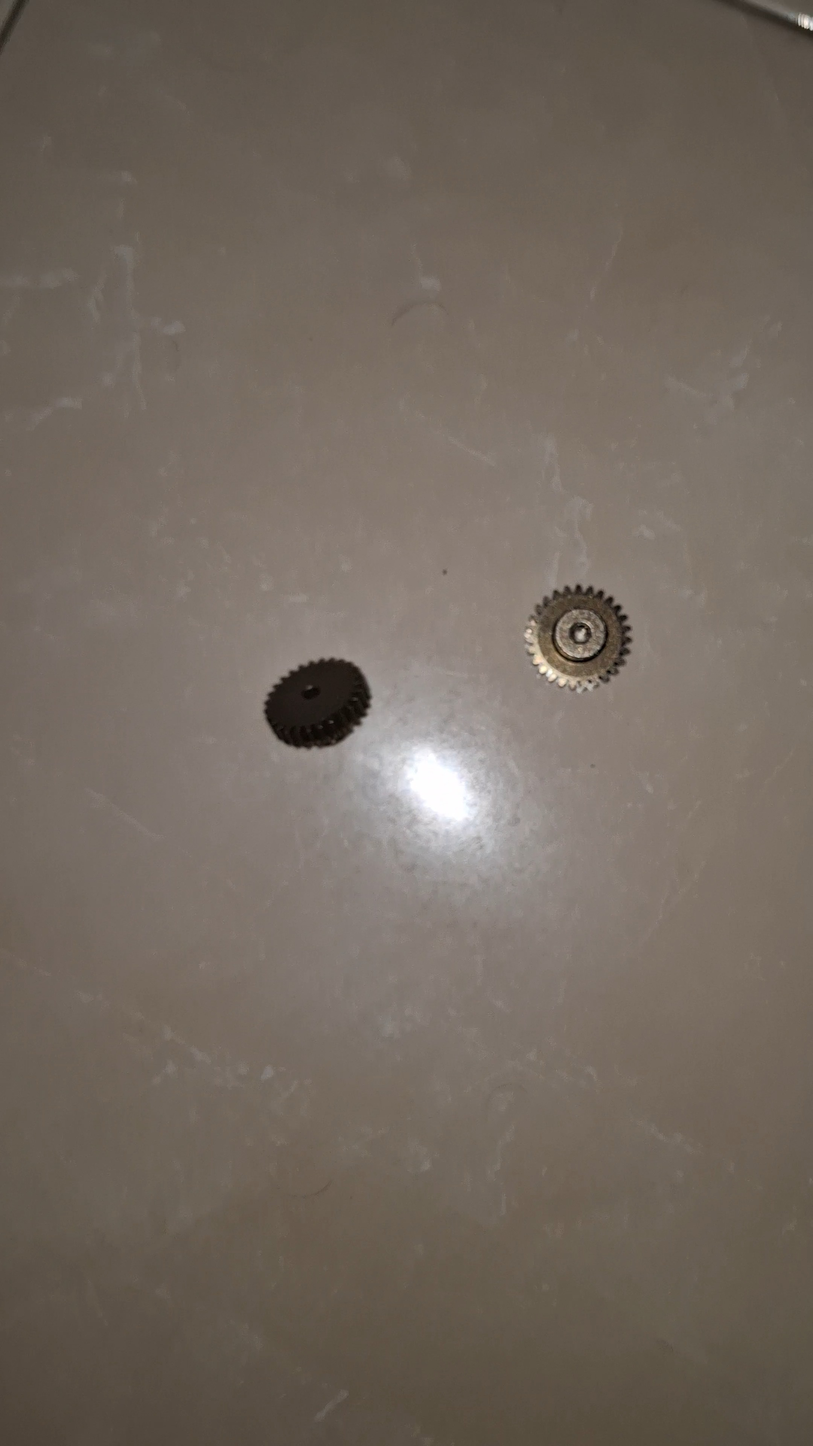spur gear: (525, 585, 631, 691), (265, 659, 370, 747)
